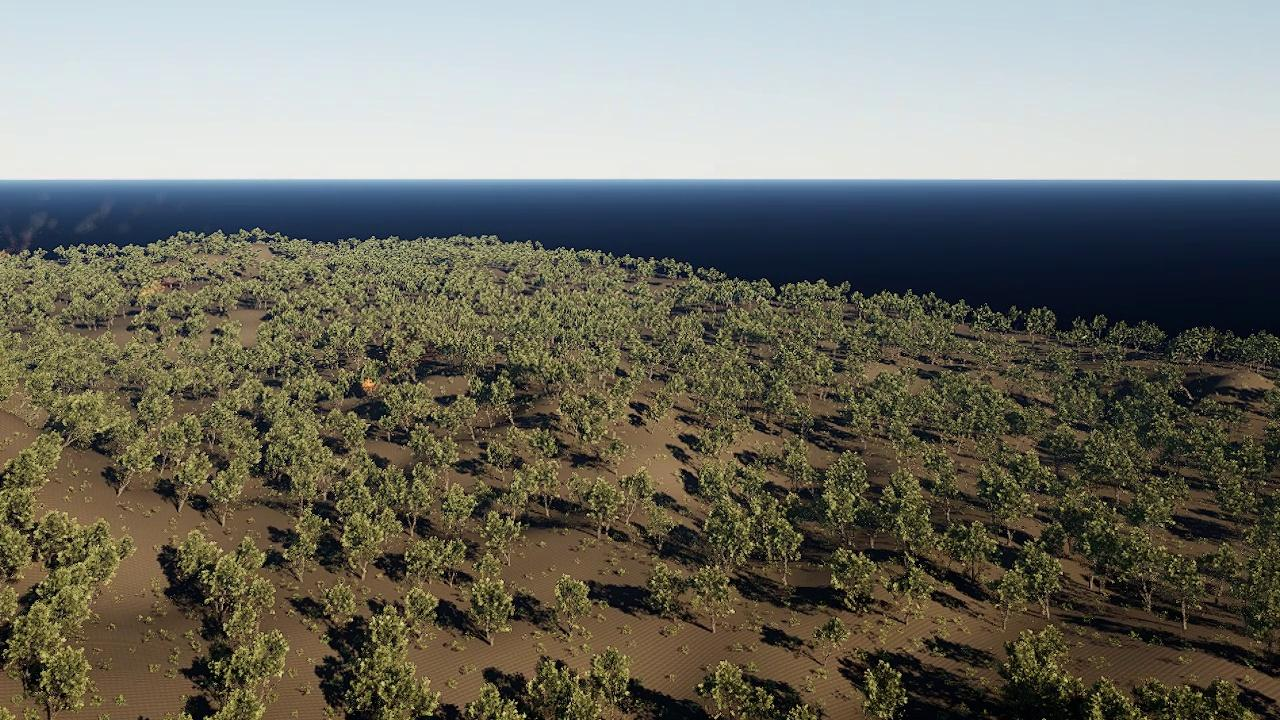fire: (361, 379, 374, 392)
smoke: (0, 184, 187, 256)
